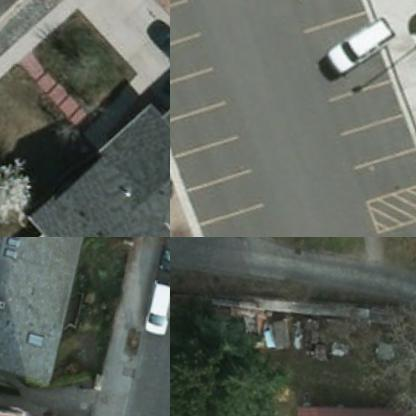car: (322, 0, 400, 87), (154, 237, 169, 272)
pickup: (141, 7, 169, 86)
van: (140, 274, 169, 336)
